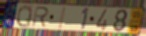1: (80, 7, 90, 31)
4: (94, 8, 109, 32)
8: (113, 9, 129, 32)
I: (56, 6, 68, 31)
Q: (15, 4, 33, 28)
R: (31, 6, 50, 28)
